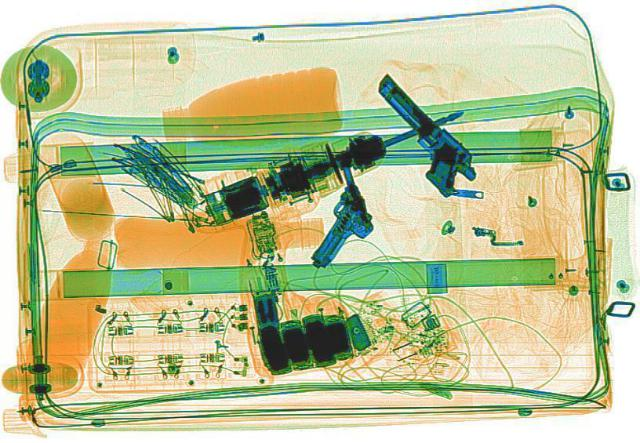Gun: (338, 72, 494, 196), (284, 160, 404, 271)
